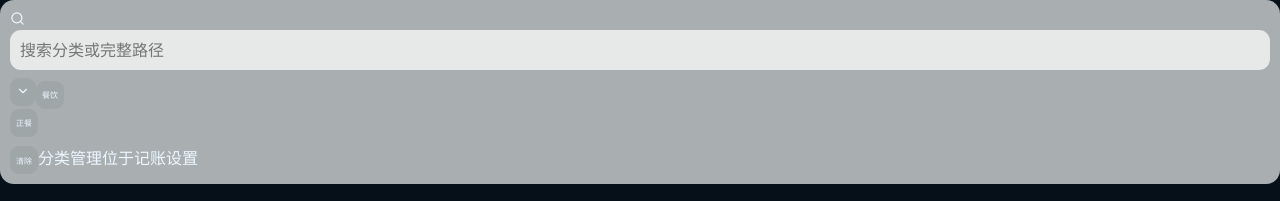
Test: taxonomy pickers › searches by full category path
Type "餐饮 / 正餐" into the search field labelled "搜索分类" at (640, 50), box [10,30,1270,70]
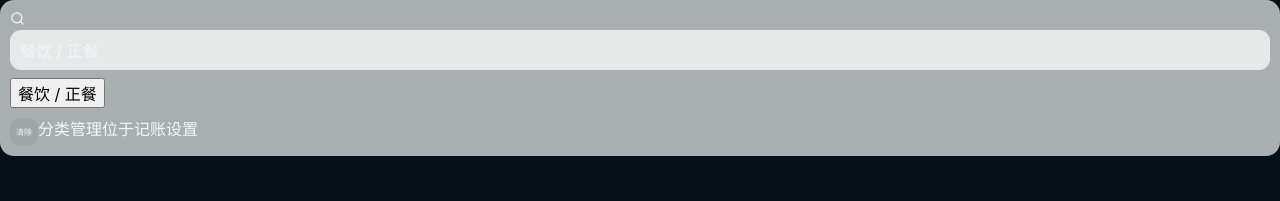
Check: the button with aria-label "选择分类 餐饮 / 正餐" is shown, box [10,78,105,108]
Check: the button "选择分类 餐饮" is gone
